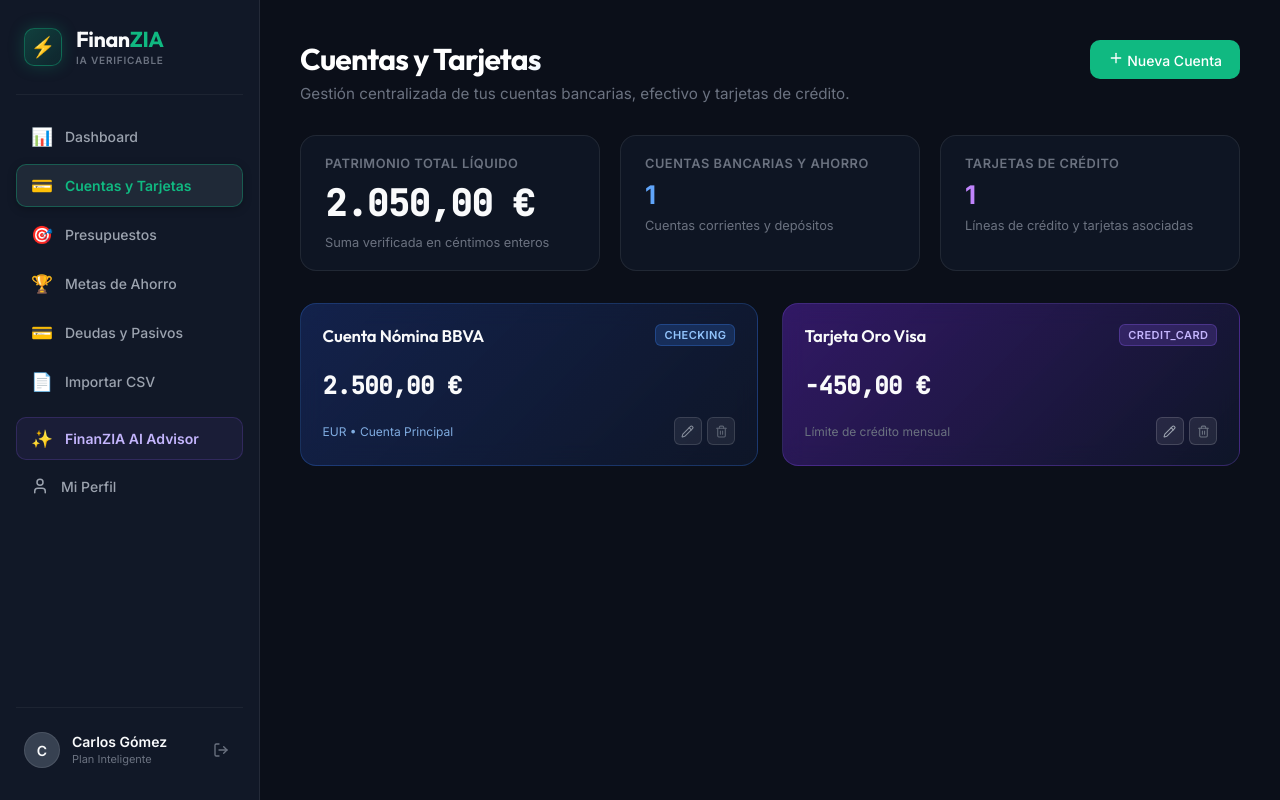
Test: AccountsPage Component (/accounts) › abre el modal DeleteAccountModal al pulsar el botón de eliminar
This screenshot has width=1280, height=800.
Click the button named "Eliminar Cuenta Nómina BBVA". click: (721, 431)
box: [707,417,735,445]
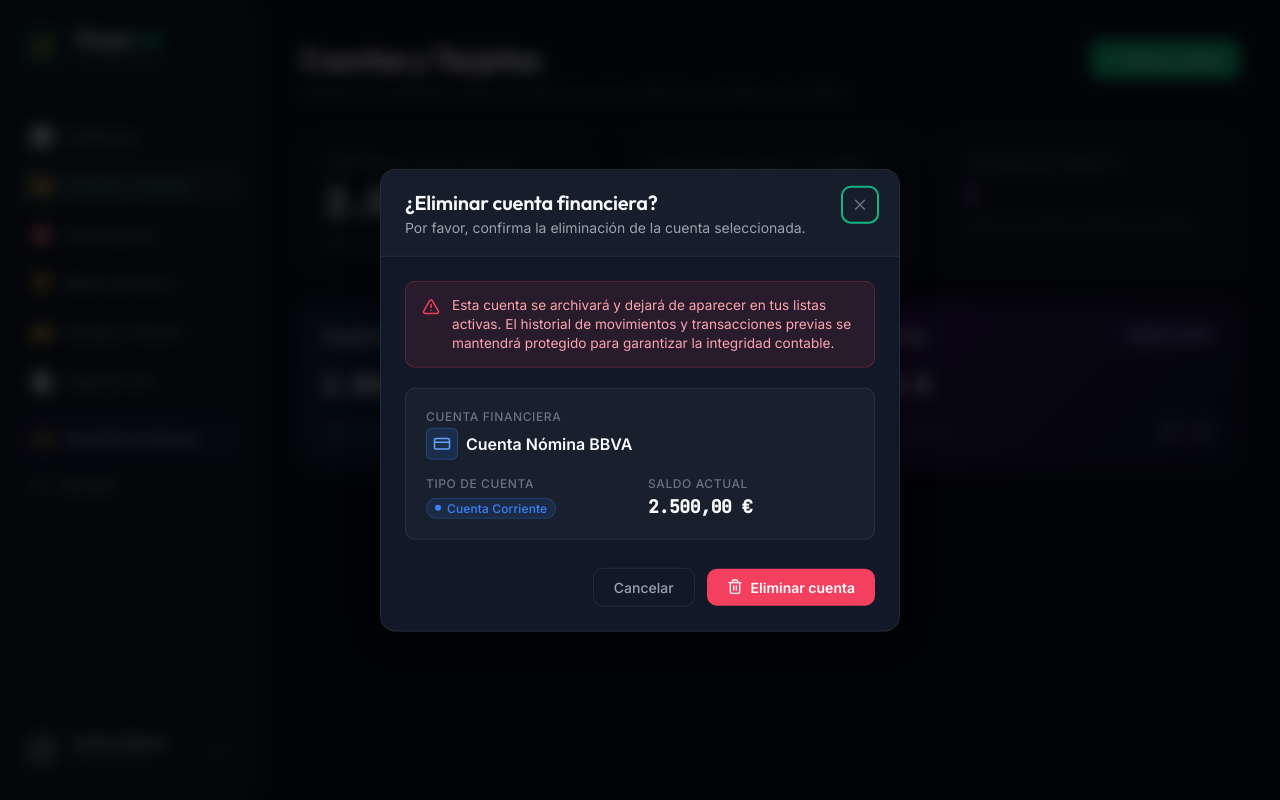
Now the heading "¿Eliminar cuenta financiera?" is shown, box [405,190,658,215]
Now the text "Esta cuenta se archivará y dejará de aparecer" is shown, box [452,297,851,351]
